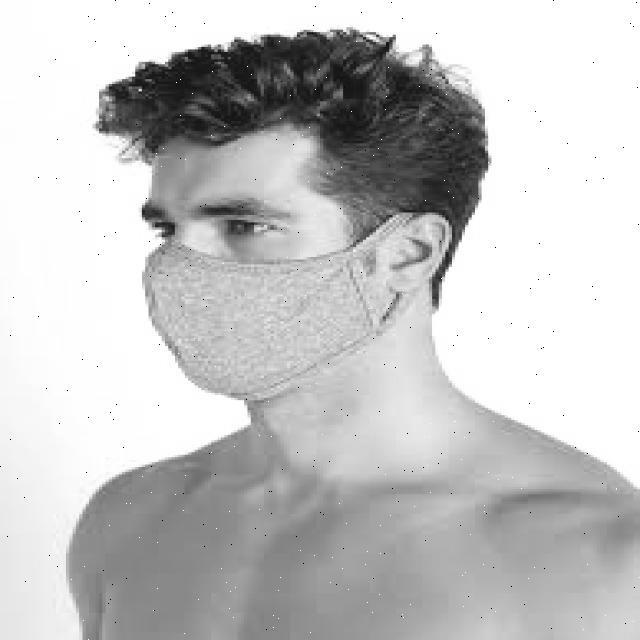fake: (135, 237, 429, 403)
real: (141, 134, 384, 408)
